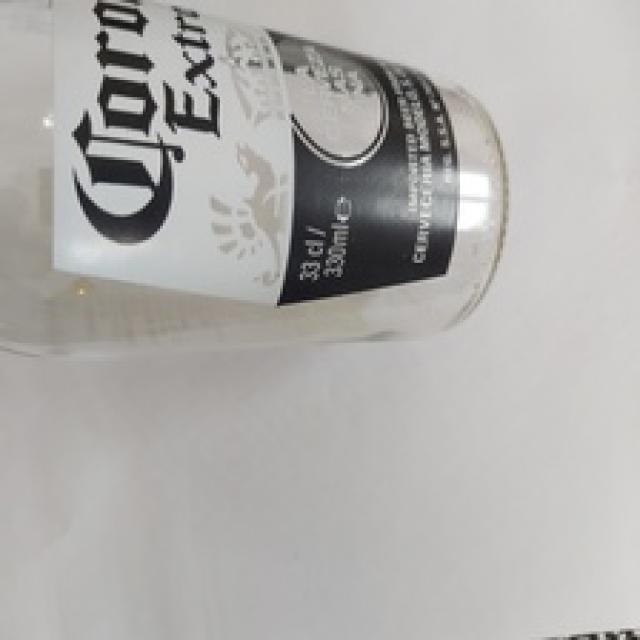Glass: (0, 0, 513, 363)
